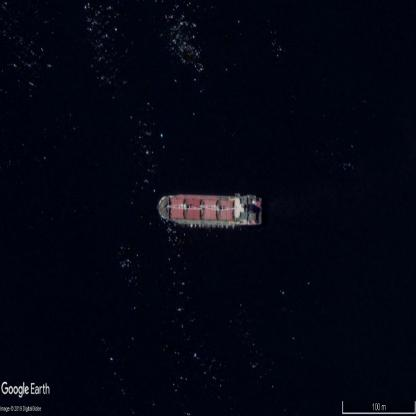ship: (157, 193, 263, 225)
